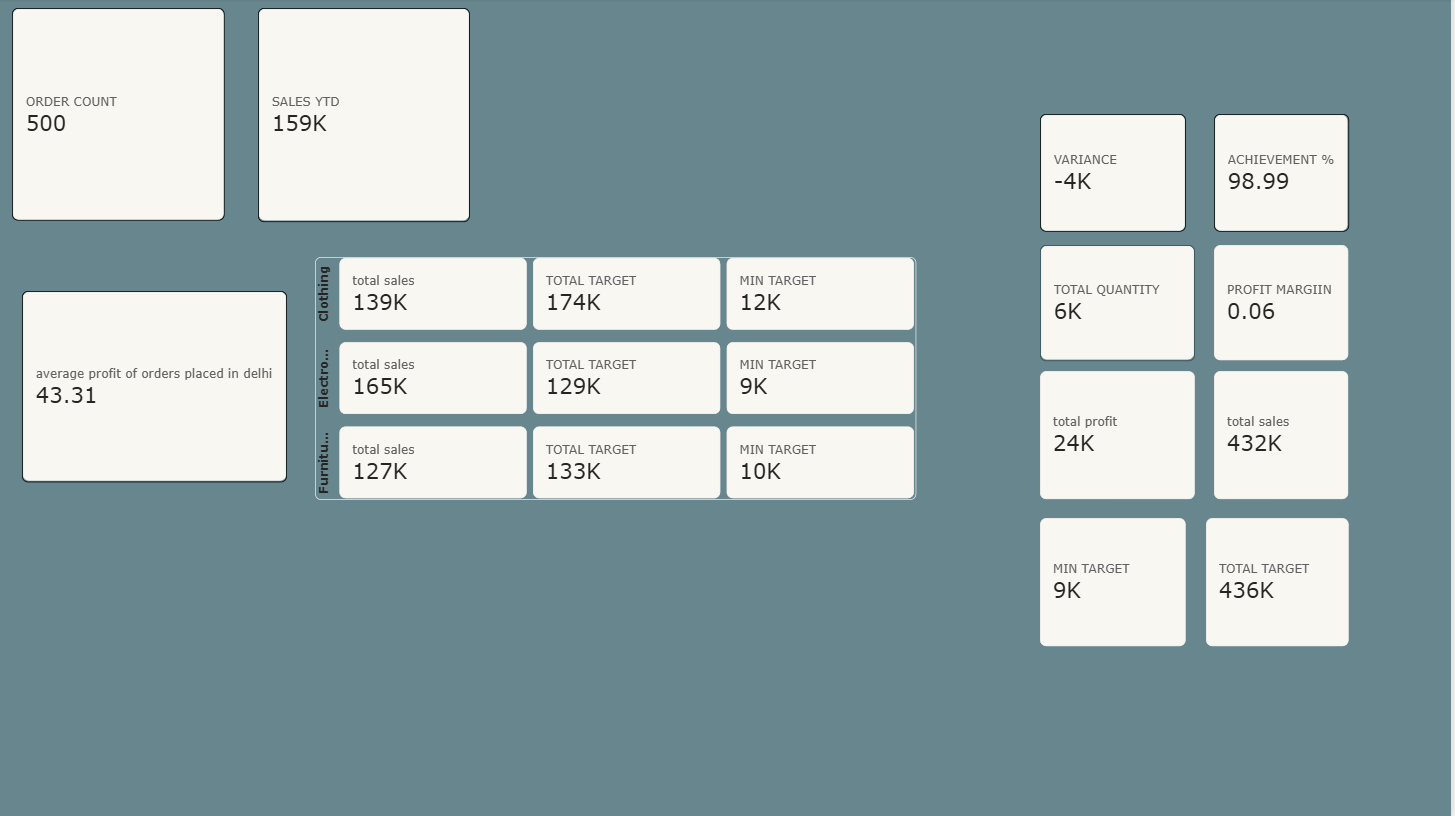

Layout of this report page (visuals, bound fields, positions):
{"tool":"powerbi","page":{"name":"MEASSURES","canvas":[1920,1080],"ordinal":0},"visuals":[{"type":"cardVisual","fields":{"Data":["Order Details (1).order count"]},"box":[25,13.2,280,280],"z":0},{"type":"cardVisual","fields":{"Data":["Order Details (1).average profit of orders placed in delhi"]},"box":[38.2,385.9,349,251.6],"z":1000},{"type":"cardVisual","fields":{"Data":["Order Details (1).sales ytd"]},"box":[349,13.2,279.2,281.9],"z":2000},{"type":"cardVisual","fields":{"Data":["Order Details (1).TOTAL QUANTITY"]},"box":[1379,325.3,204.1,152.8],"z":3000},{"type":"cardVisual","fields":{"Data":["Order Details.VARIANCE"]},"box":[1379,152.8,192.3,155.4],"z":4000},{"type":"cardVisual","fields":{"Data":["Order Details.ACHIEVEMENT %"]},"box":[1608.1,152.8,177.8,155.4],"z":5000},{"type":"cardVisual","fields":{"Data":["Order Details.total sales","Sales target.TOTAL TARGET","Sales target.MIN TARGET"],"Rows":["Order Details.Category"]},"box":[424.1,341.1,791.6,320],"z":6000},{"type":"cardVisual","fields":{"Data":["Order Details.PROFIT MARGIIN"]},"box":[1608.1,325.3,177.8,152.8],"z":7000},{"type":"cardVisual","fields":{"Data":["Order Details.total profit"]},"box":[1379,491.3,204.1,169.9],"z":8000},{"type":"cardVisual","fields":{"Data":["Order Details.total sales"]},"box":[1608.1,491.3,177.8,169.9],"z":9000},{"type":"cardVisual","fields":{"Data":["Sales target.MIN TARGET"]},"box":[1379,684.9,192.3,169.9],"z":10000},{"type":"cardVisual","fields":{"Data":["Sales target.TOTAL TARGET"]},"box":[1597.6,684.9,188.3,169.9],"z":11000}]}

Visuals, with their boxes in screenshot pixels (x1, y1, x2, y2), scaled from the page's 1920x1080 canvas onto the 1455x816 screenshot:
cardVisual - Order Details (1).order count: rect(19, 10, 231, 222)
cardVisual - Order Details (1).average profit of orders placed in delhi: rect(29, 292, 293, 482)
cardVisual - Order Details (1).sales ytd: rect(264, 10, 476, 223)
cardVisual - Order Details (1).TOTAL QUANTITY: rect(1045, 246, 1200, 361)
cardVisual - Order Details.VARIANCE: rect(1045, 115, 1191, 233)
cardVisual - Order Details.ACHIEVEMENT %: rect(1219, 115, 1353, 233)
cardVisual - Order Details.total sales x Sales target.TOTAL TARGET: rect(321, 258, 921, 499)
cardVisual - Order Details.PROFIT MARGIIN: rect(1219, 246, 1353, 361)
cardVisual - Order Details.total profit: rect(1045, 371, 1200, 500)
cardVisual - Order Details.total sales: rect(1219, 371, 1353, 500)
cardVisual - Sales target.MIN TARGET: rect(1045, 517, 1191, 646)
cardVisual - Sales target.TOTAL TARGET: rect(1211, 517, 1353, 646)
